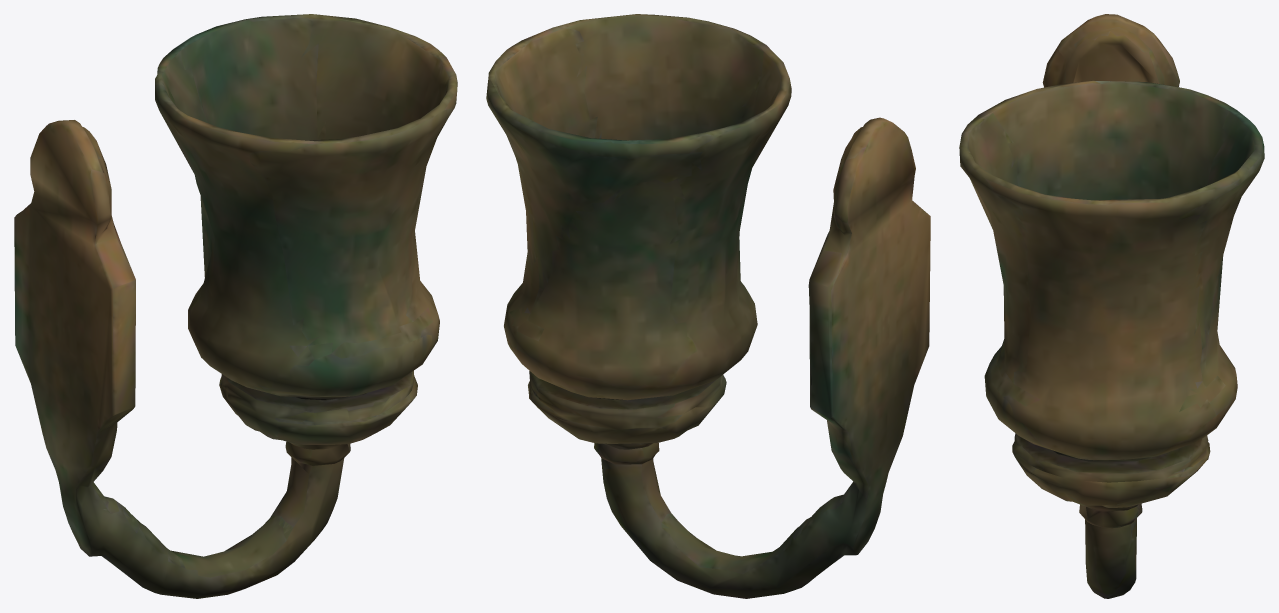
Rendered from ornate-bronze-wall-torch-v001.glb.
3 views of the same model, side by side, from view 1: azimuth 30°, elevation 25°; view 2: azimuth 150°, elevation 25°; view 3: azimuth 270°, elevation 25° (orthographic). The views are drawn at different scales.
Parts seen in each view (by area): view 1: ornate-bronze-wall-torch; view 2: ornate-bronze-wall-torch; view 3: ornate-bronze-wall-torch.
Boxes of the visible parts, x1=… form: ornate-bronze-wall-torch: x1=14, y1=14, x2=457, y2=598; ornate-bronze-wall-torch: x1=486, y1=14, x2=930, y2=598; ornate-bronze-wall-torch: x1=959, y1=14, x2=1264, y2=598.
Bounding box in the file's own units: 0.6019 × 0.7772 × 0.4343.
Materials: 1 (1 with a texture image).
